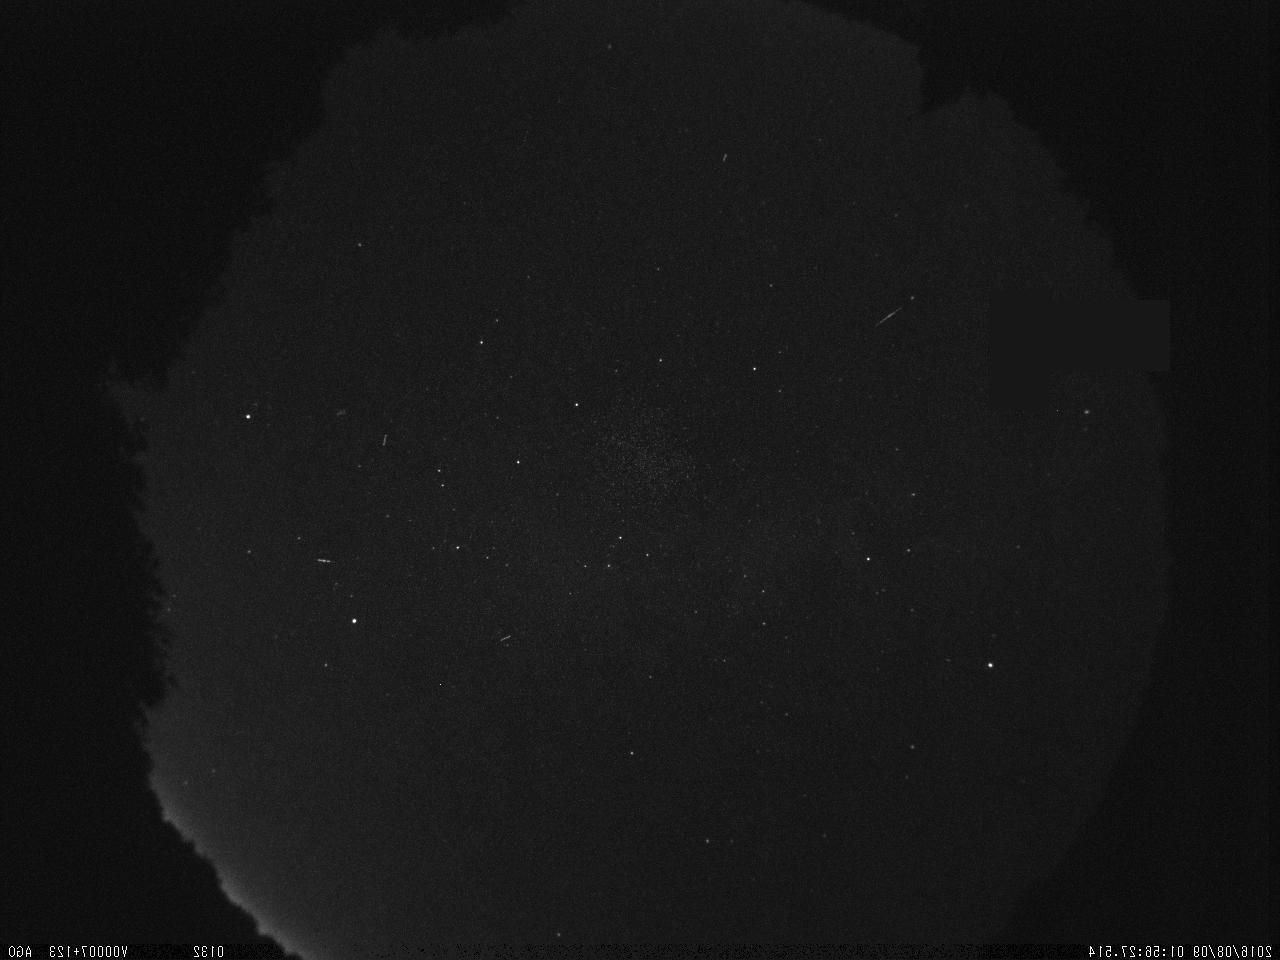meteor: (845, 291, 916, 350)
